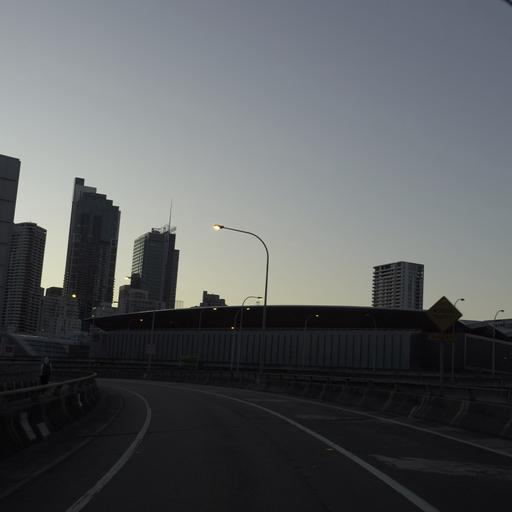Street light: (212, 222, 269, 329), (236, 294, 262, 374), (450, 296, 464, 379), (491, 308, 504, 375), (239, 294, 262, 329), (198, 306, 216, 328), (303, 313, 319, 329), (493, 308, 504, 321), (454, 297, 464, 307)
